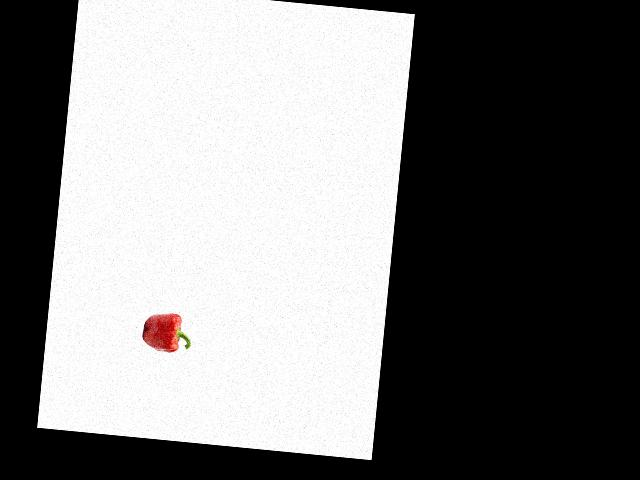bell_pepper: (138, 307, 195, 357)
